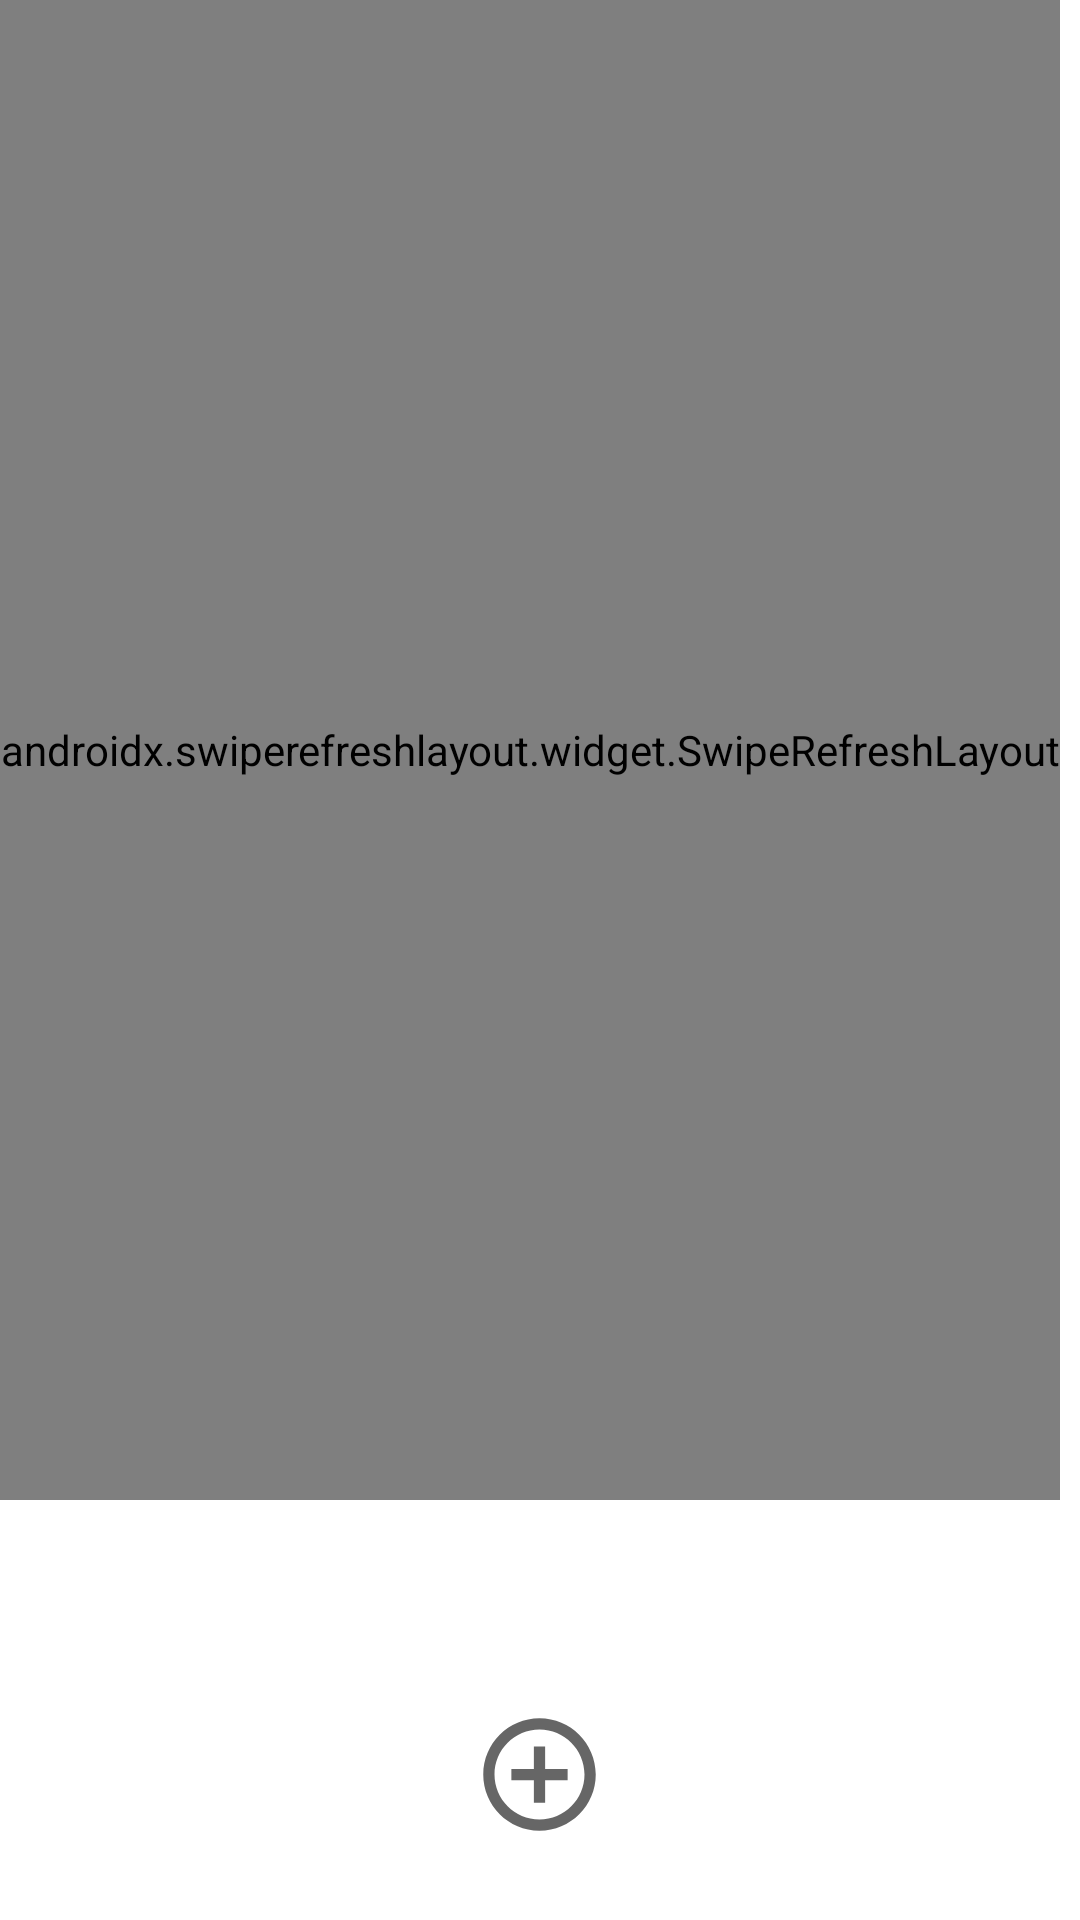

Icon bounding boxes for this 1080 x 1920 phone screenshot, format (x1, y1, x2, y2):
control point: (483, 1718, 596, 1831)
